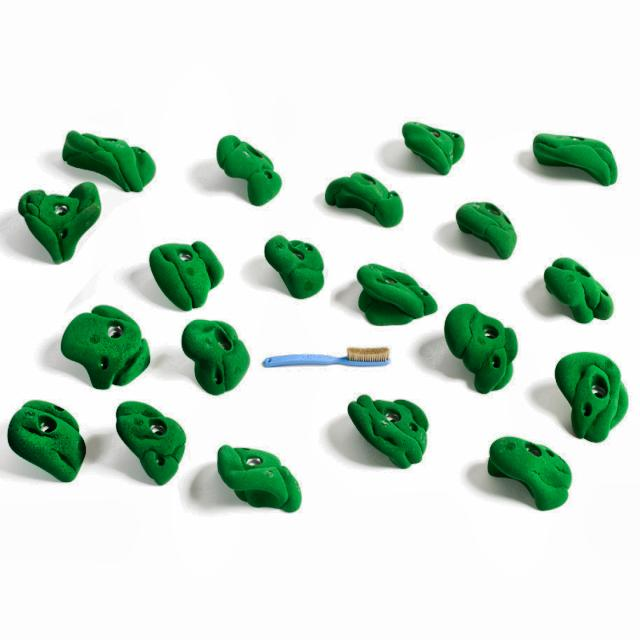Hold: (338, 387, 426, 474), (552, 348, 628, 447), (60, 310, 154, 390), (57, 120, 156, 193), (444, 293, 516, 392), (108, 396, 187, 483), (18, 183, 100, 266), (486, 437, 574, 514), (144, 234, 228, 314), (12, 392, 87, 481), (214, 133, 292, 215), (349, 260, 441, 329), (218, 440, 301, 509), (174, 319, 250, 392), (262, 231, 328, 301), (320, 170, 407, 222), (404, 117, 472, 183), (455, 193, 520, 262), (536, 260, 612, 319), (528, 131, 614, 183)
